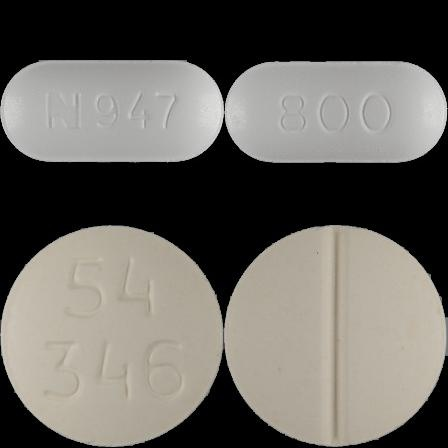49349-668: (0, 0, 224, 224)
